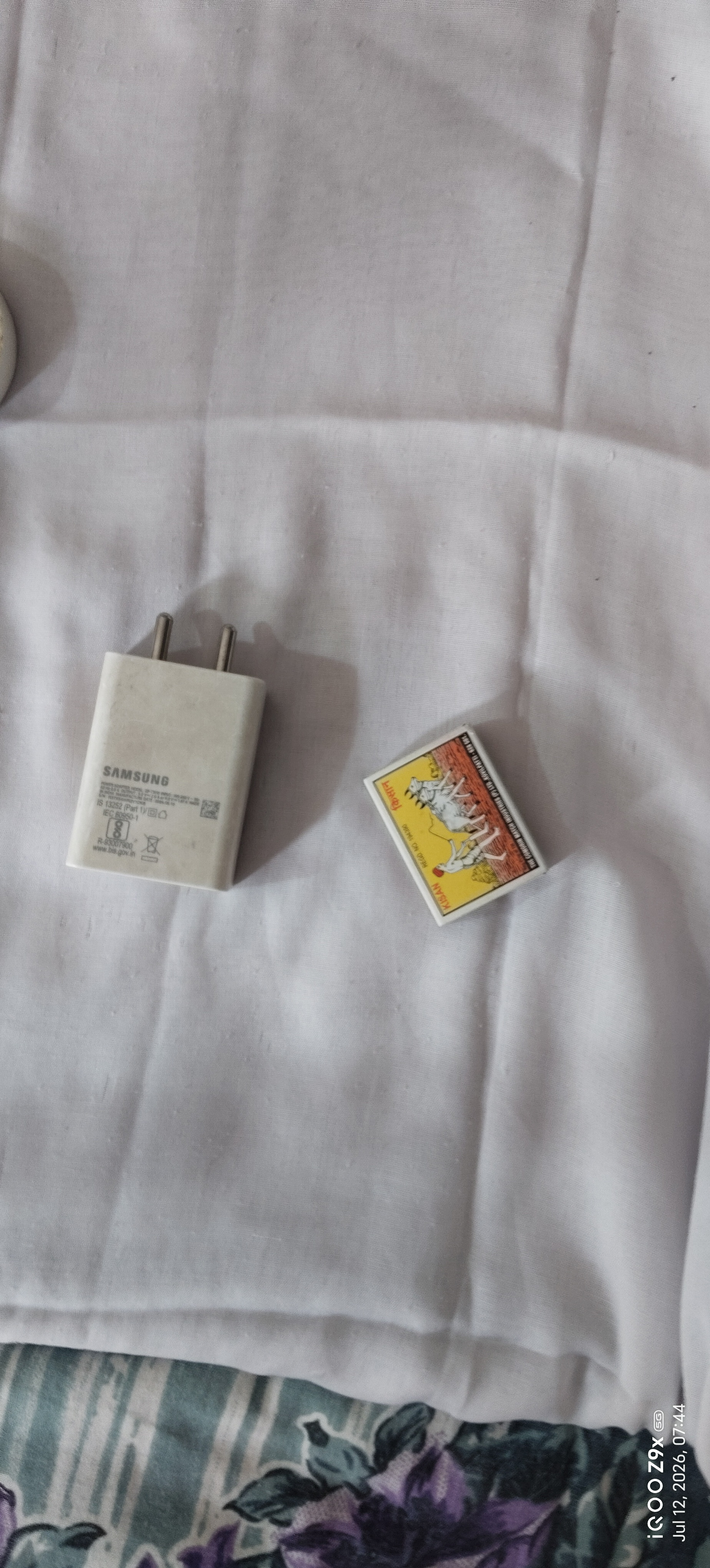charger: (41, 580, 313, 948)
matchbox: (351, 701, 571, 951)
